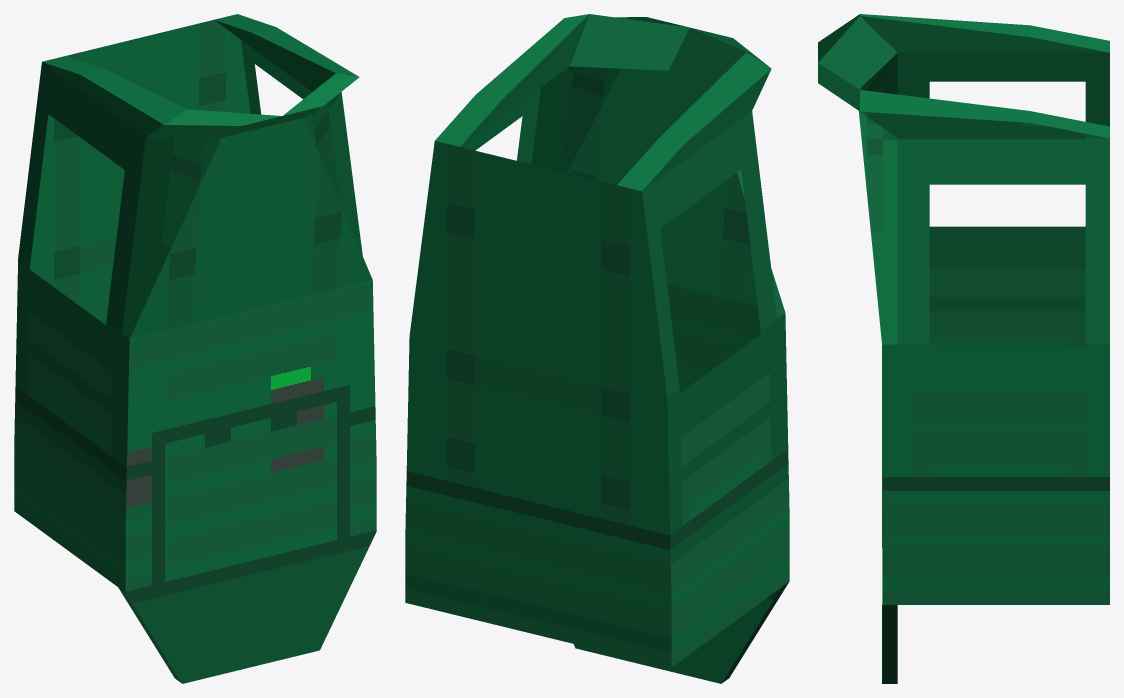
The model's file is body_armor.gltf.
3 renders of one model, left to right at view 1: azimuth 30°, elevation 25°; view 2: azimuth 150°, elevation 25°; view 3: azimuth 270°, elevation 25°, orthographic. The views are drawn at different scales.
Visible parts, largest first — view 1: mesh; view 2: mesh; view 3: mesh.
Part boxes in pixels (x1=…): mesh: x1=14, y1=14, x2=376, y2=683; mesh: x1=405, y1=14, x2=789, y2=683; mesh: x1=818, y1=14, x2=1109, y2=683.
Size of the model in its own units: 0.2969 by 0.6594 by 0.2922.
1 material, 1 textured.
